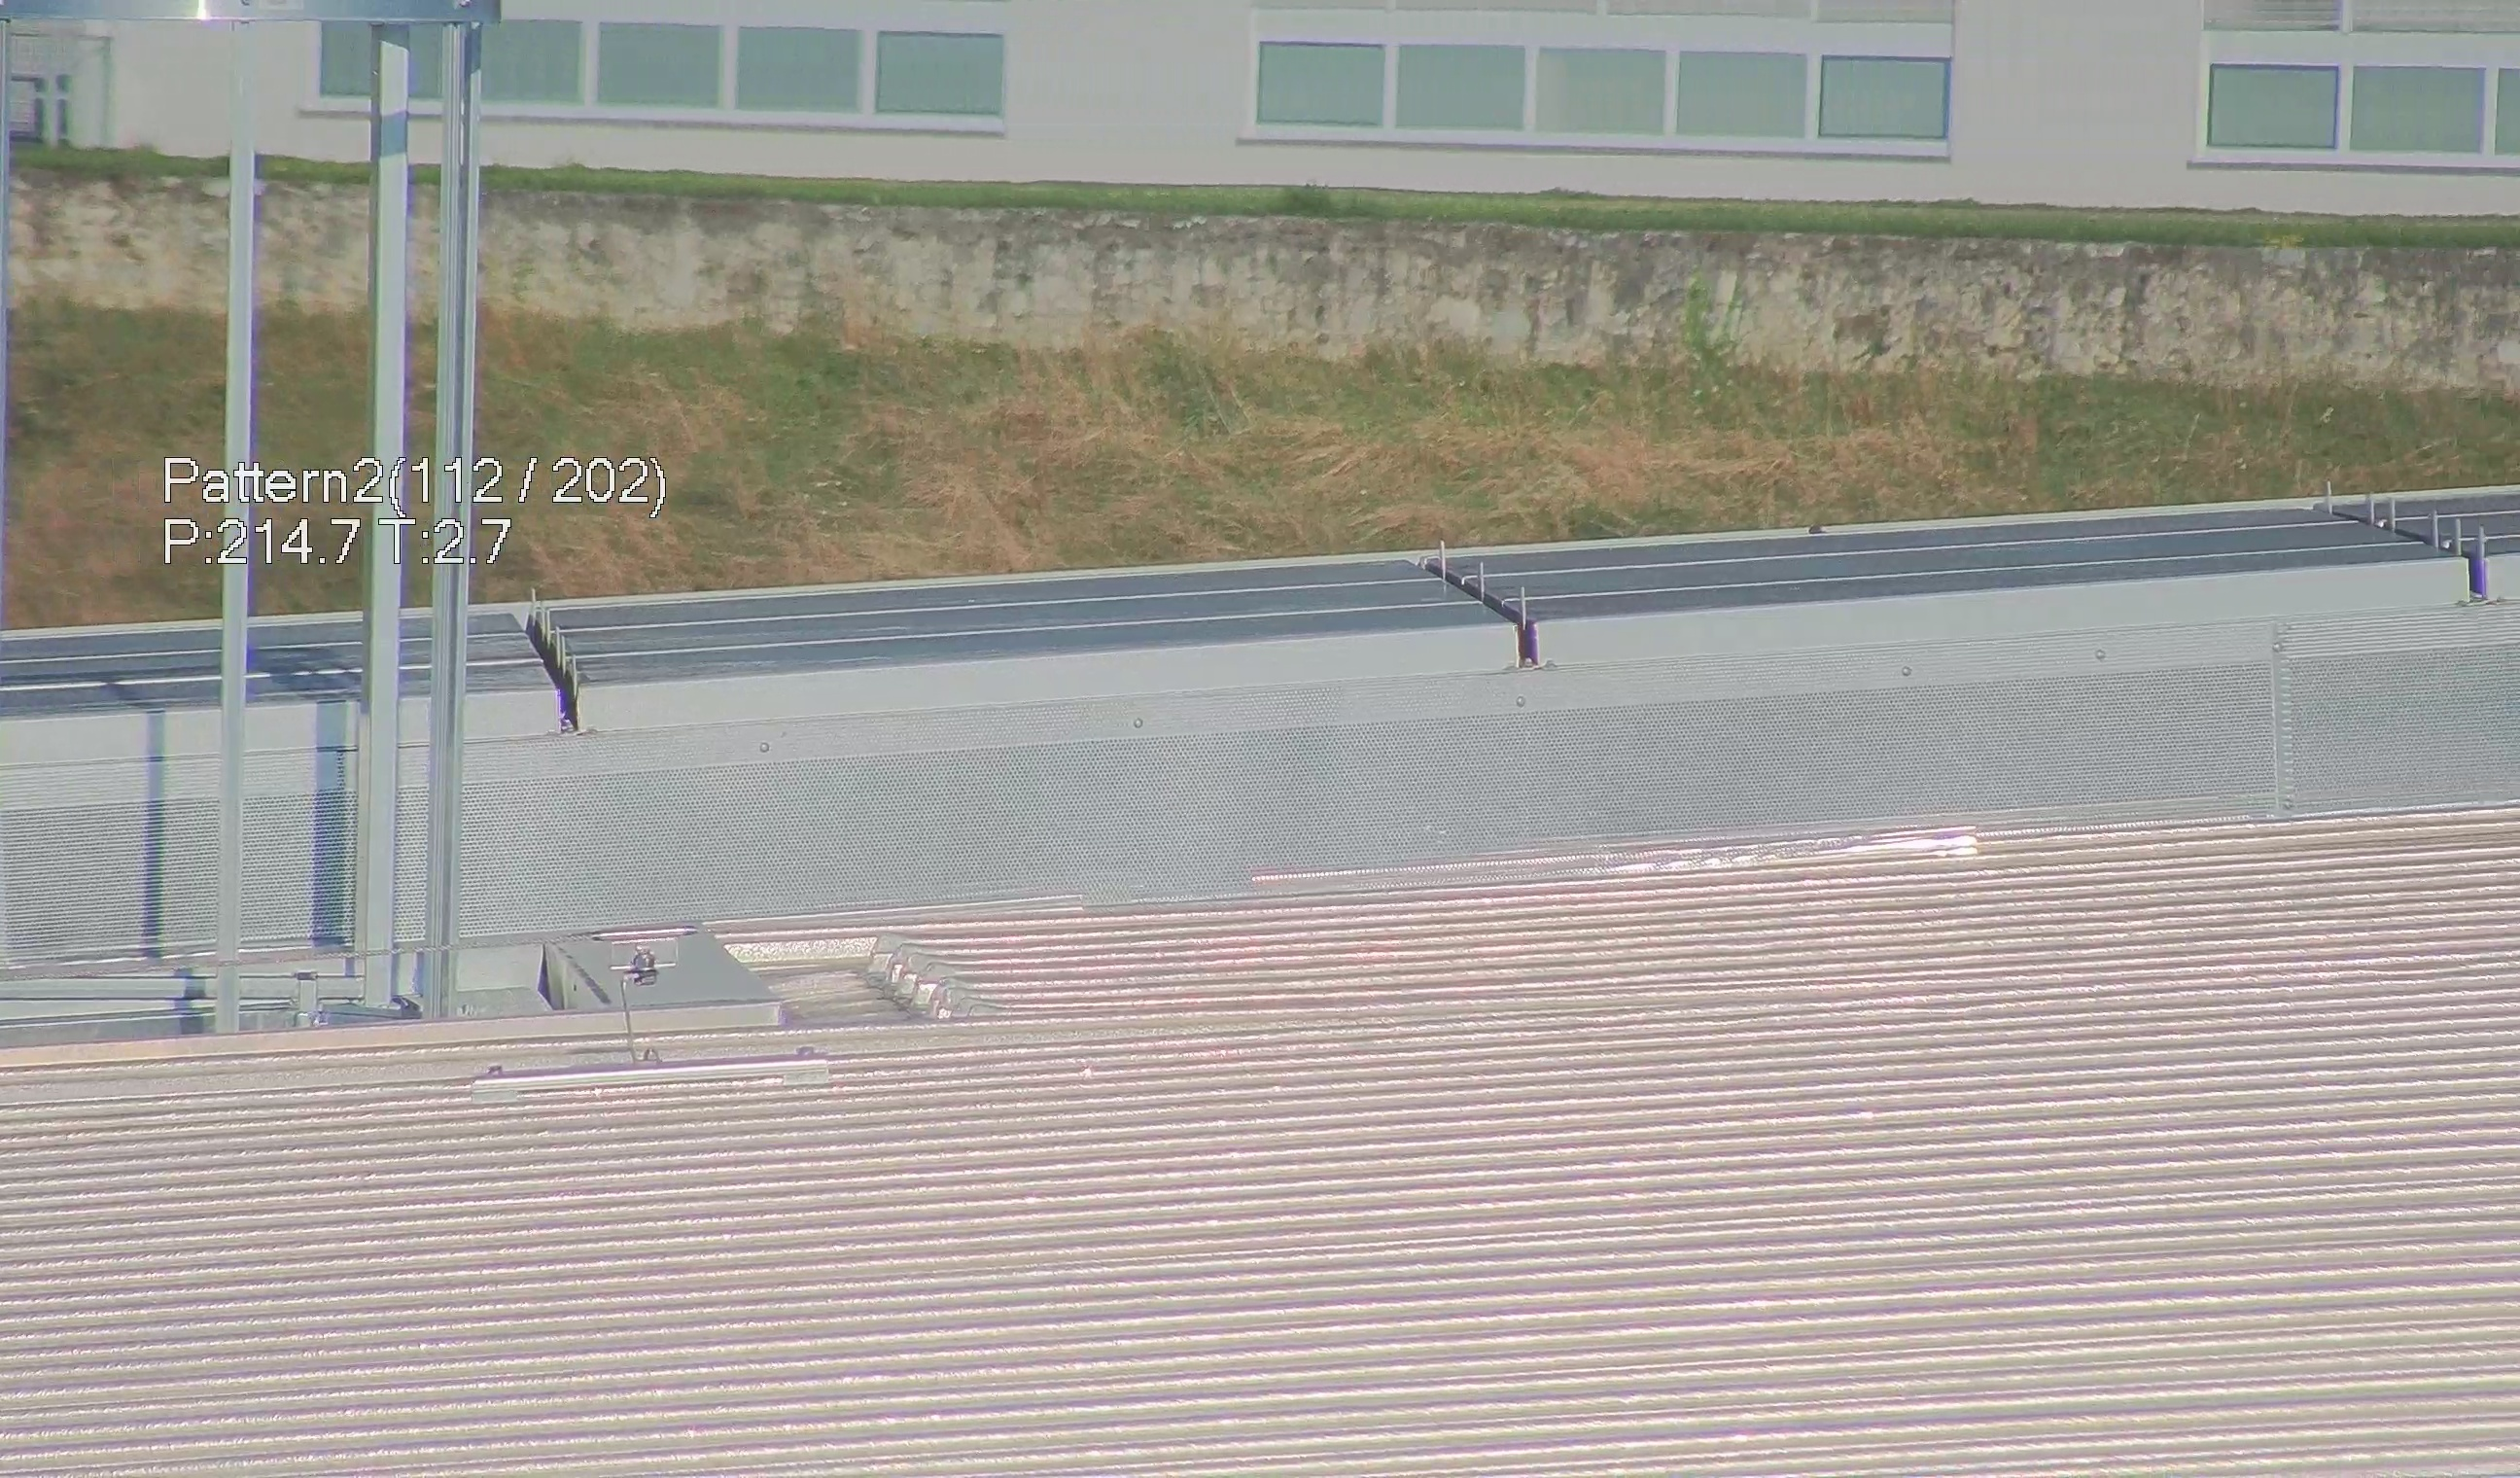Other: (492, 586, 579, 741)
